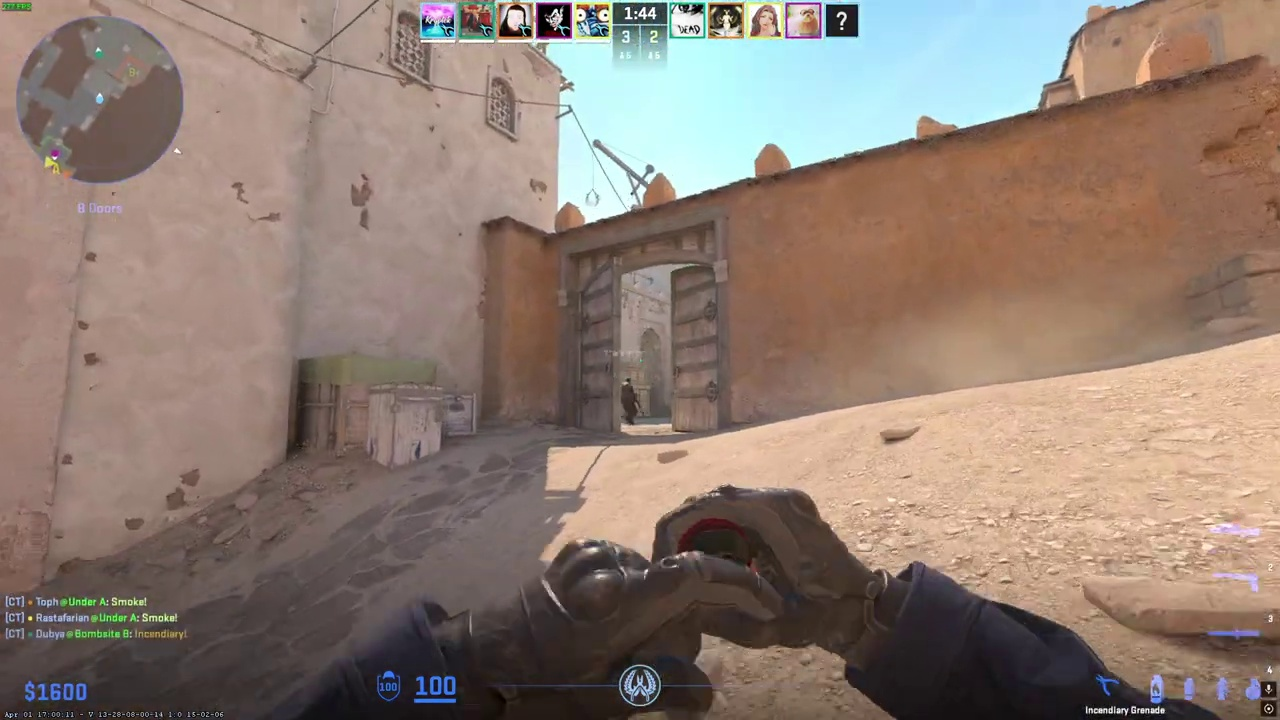CT: (620, 378, 640, 425)
